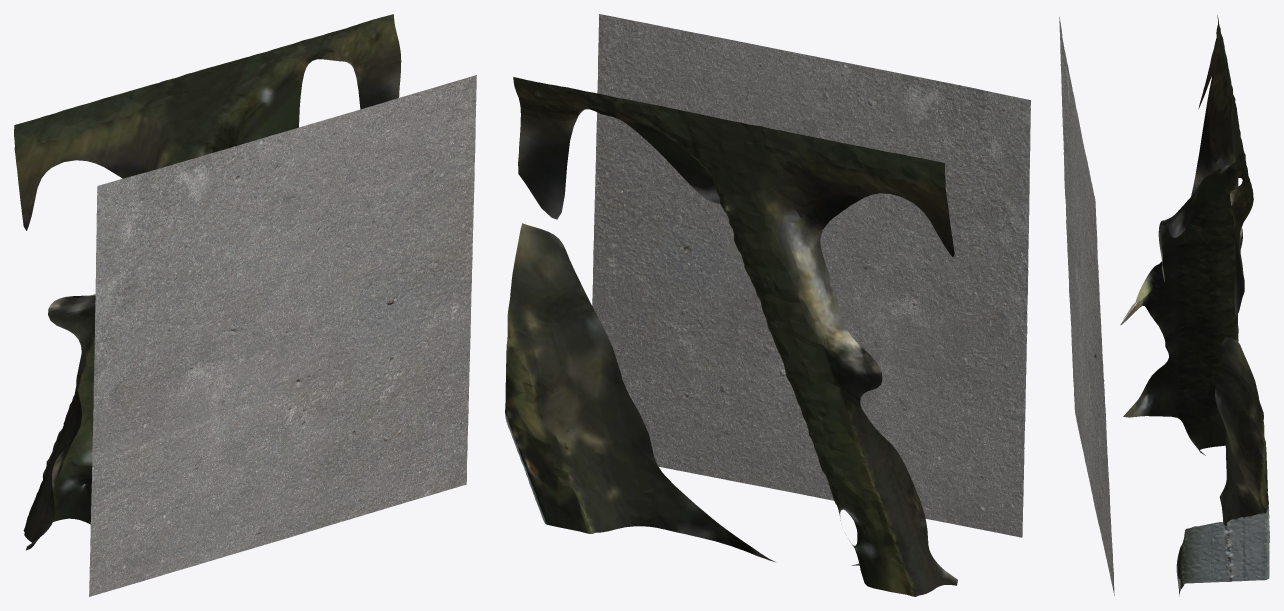
Rendered from Tile_+009_+014.fbx.
3 renders of one model, left to right at view 1: azimuth 30°, elevation 25°; view 2: azimuth 150°, elevation 25°; view 3: azimuth 270°, elevation 25°, orthographic. The views are drawn at different scales.
Visible parts, largest first — view 1: Tile_+009_+014_LOD0; view 2: Tile_+009_+014_LOD0; view 3: Tile_+009_+014_LOD0.
Part boxes in pixels (x1,y1,x2,y2): Tile_+009_+014_LOD0: [14, 14, 476, 596]; Tile_+009_+014_LOD0: [505, 14, 1030, 596]; Tile_+009_+014_LOD0: [1059, 15, 1269, 596].
Size of what is drawn, in the model's own units: 303 by 303 by 145.
